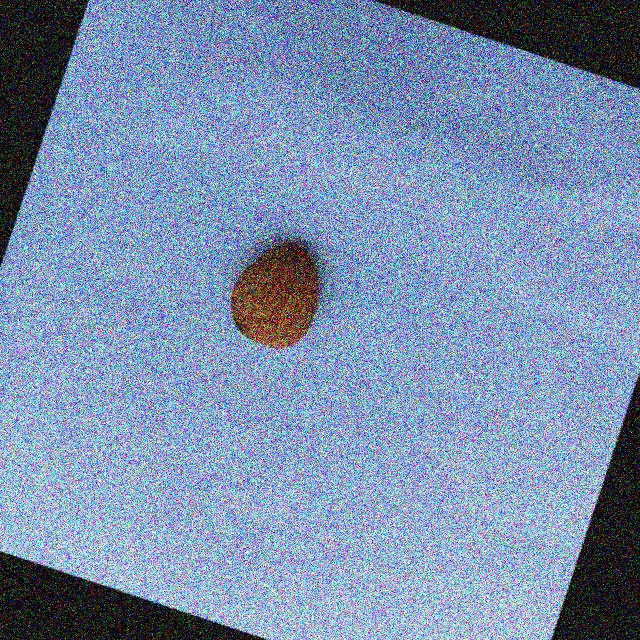grade1: (212, 220, 346, 367)
